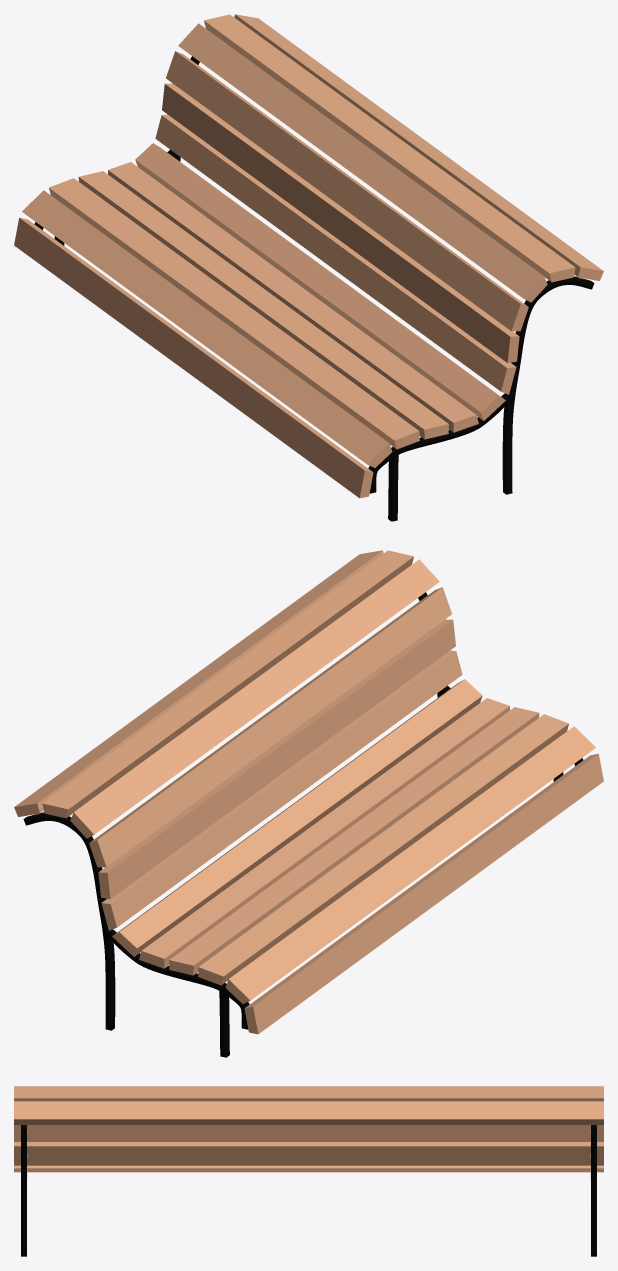
File: Banc_Exterieur.fbx
3 renders of one model, top to bottom at view 1: azimuth 30°, elevation 25°; view 2: azimuth 150°, elevation 25°; view 3: azimuth 270°, elevation 25°, orthographic. The views are drawn at different scales.
Visible parts, largest first — view 1: Banc_Outside; view 2: Banc_Outside; view 3: Banc_Outside.
Part boxes in pixels (<box>): Banc_Outside: <box>14,14,603,521</box>; Banc_Outside: <box>14,550,603,1057</box>; Banc_Outside: <box>14,1086,603,1256</box>.
Bounding box in the file's own units: 402 × 338 × 985.
